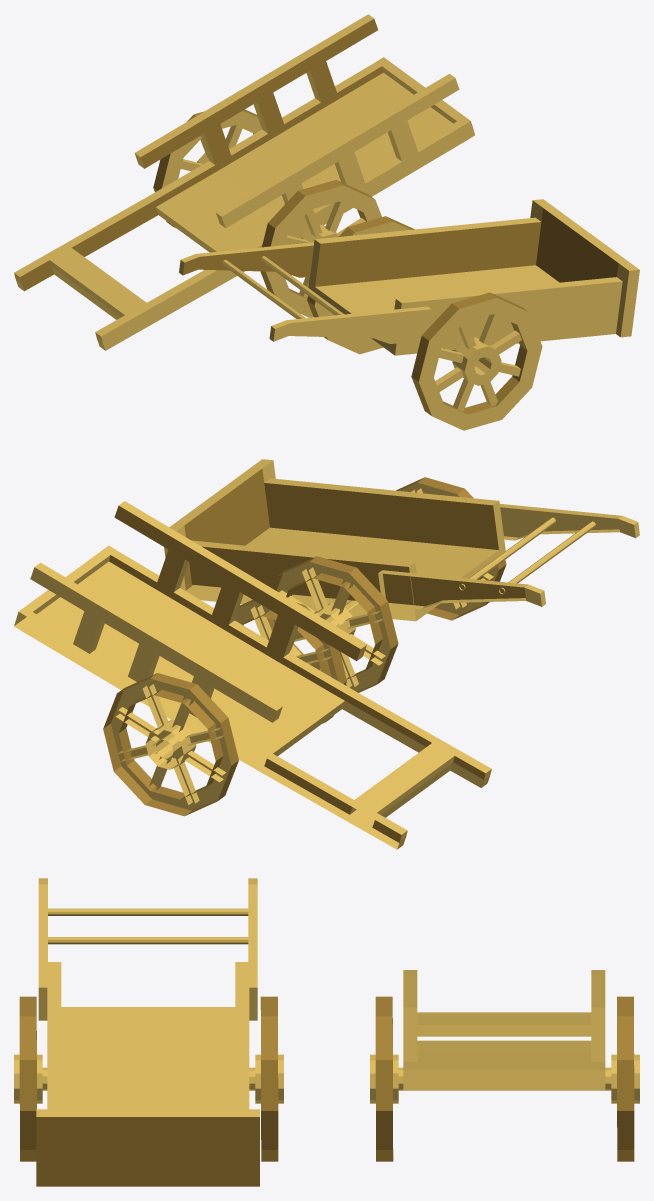
3 renders of one model, top to bottom at view 1: azimuth 30°, elevation 25°; view 2: azimuth 150°, elevation 25°; view 3: azimuth 270°, elevation 25°, orthographic. The views are drawn at different scales.
Parts seen in each view (by area): view 1: 2; view 2: 2; view 3: 2.
Part boxes in pixels (bbox=[...]): 2: bbox=[14, 14, 639, 430]; 2: bbox=[14, 459, 639, 849]; 2: bbox=[14, 878, 639, 1186].
Size of the model in its own units: 1.16 by 0.5648 by 1.43.
